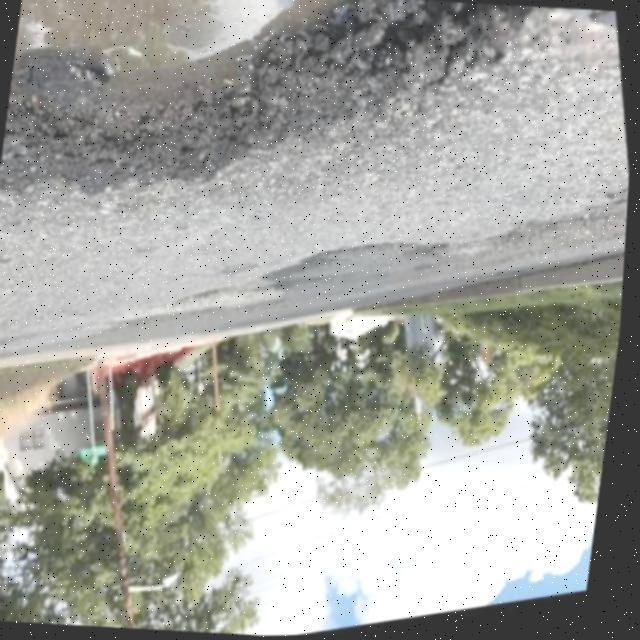Pothole: (0, 0, 638, 278)
